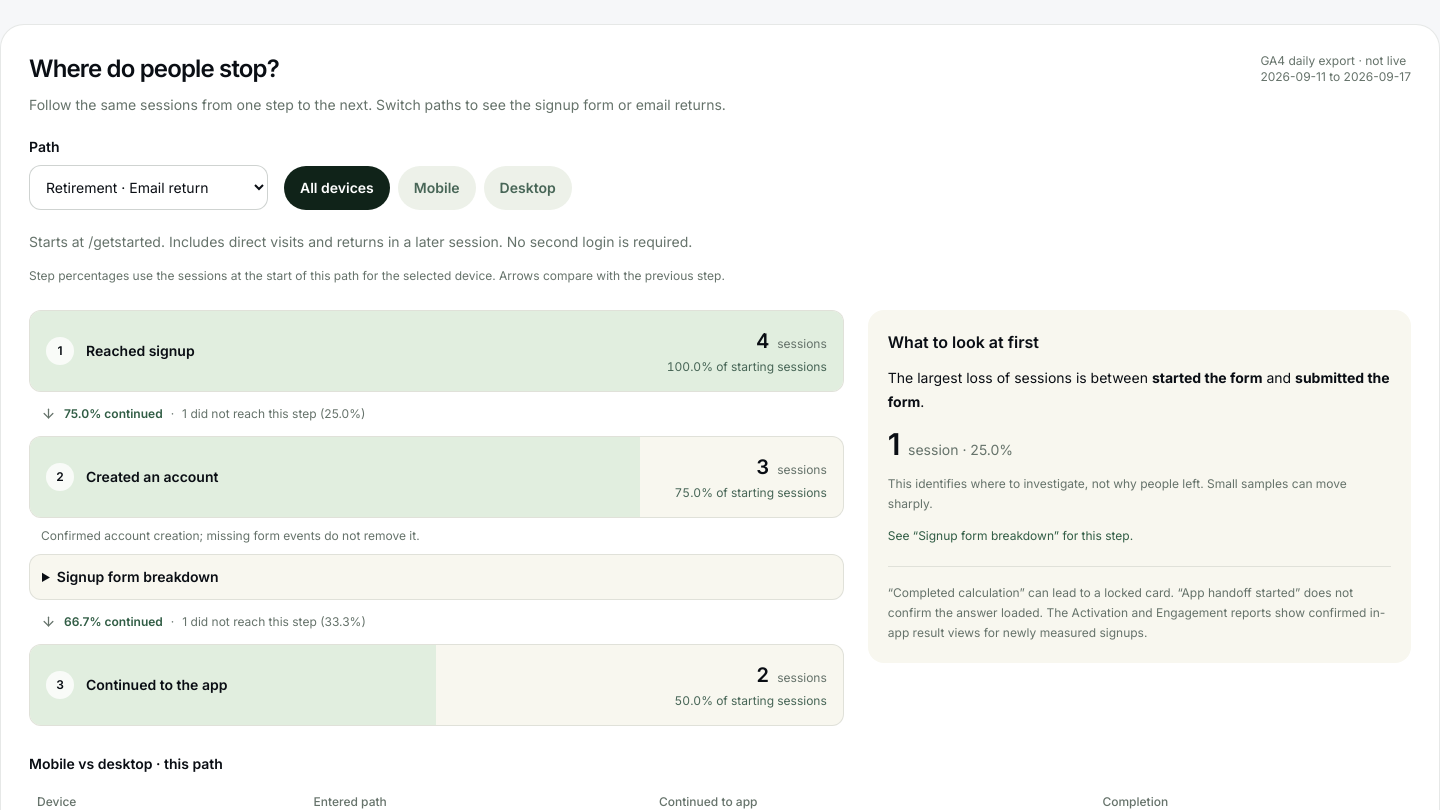
Test: simplified admin journeys › shows counts and shares of the selected signup_retirement_results_email path on Desktop
The width and height of the screenshot is (1440, 810).
Click the button "Desktop": point(528, 188) [484,166,572,210]
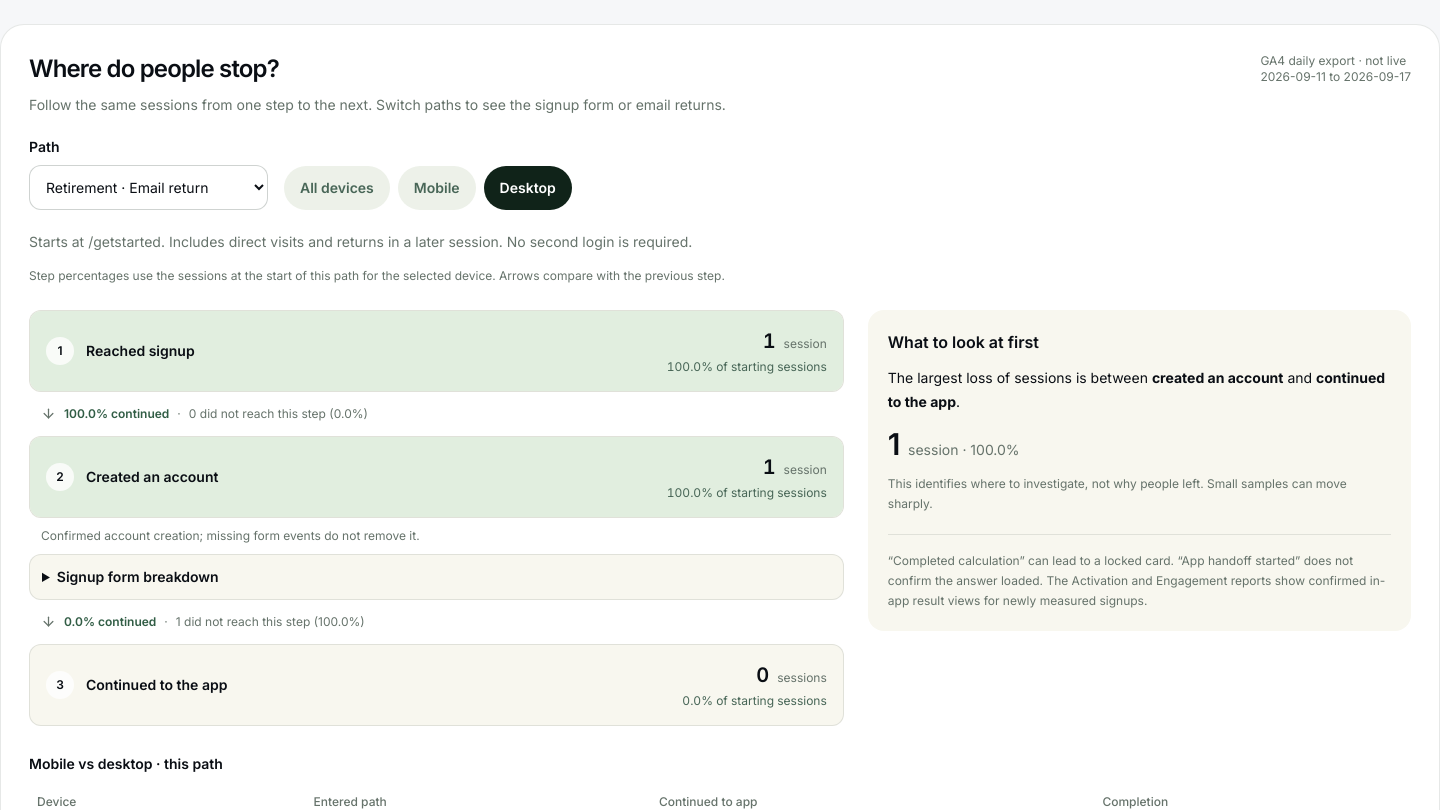
Expected: the 1st text "100.0% of starting sessions" is shown, [667,359,827,375]
Now the text "0" is shown, box [756,663,769,687]
